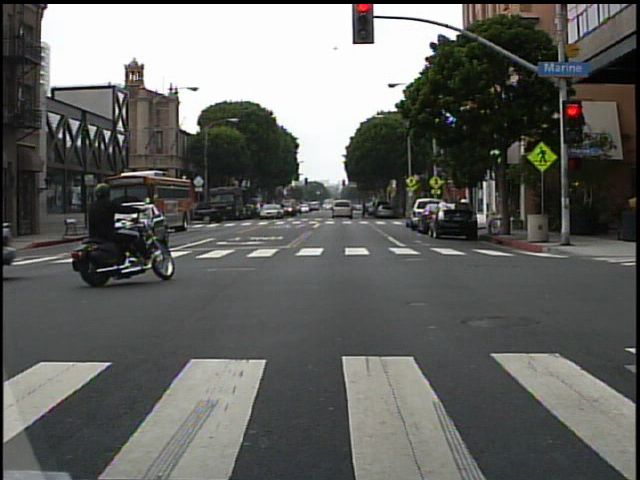car: (429, 203, 482, 239), (331, 197, 354, 218)
striscie pedonali: (1, 337, 640, 477), (173, 245, 563, 264), (183, 215, 406, 226)
